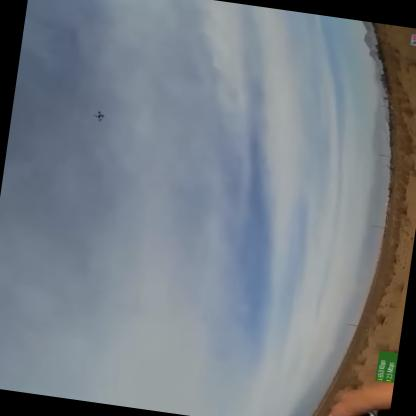drone: (88, 106, 109, 124)
